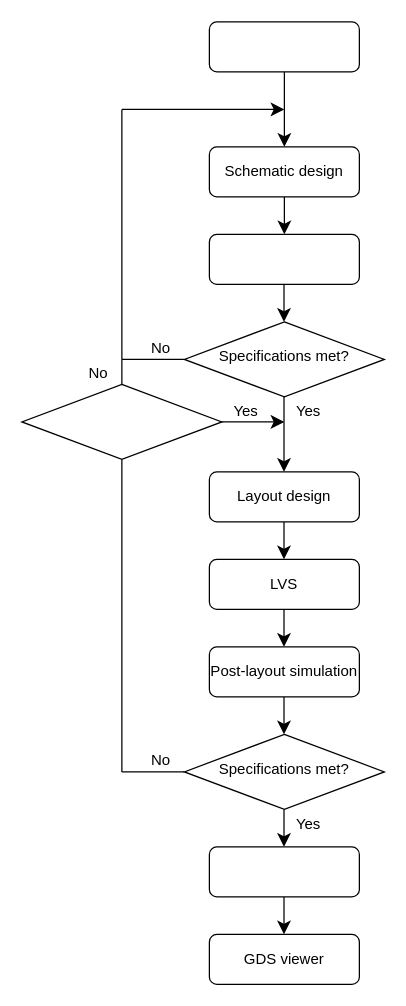
Image size: 406x1006. Some labels were removed from this diagram. Here are the shapes that lost their labels. From the top down, the box of each, then its label:
(208, 21, 359, 72): Design specifications
(208, 233, 359, 284): Simulation
(21, 383, 222, 459): Layout issue?
(208, 846, 359, 897): GDSII conversion
